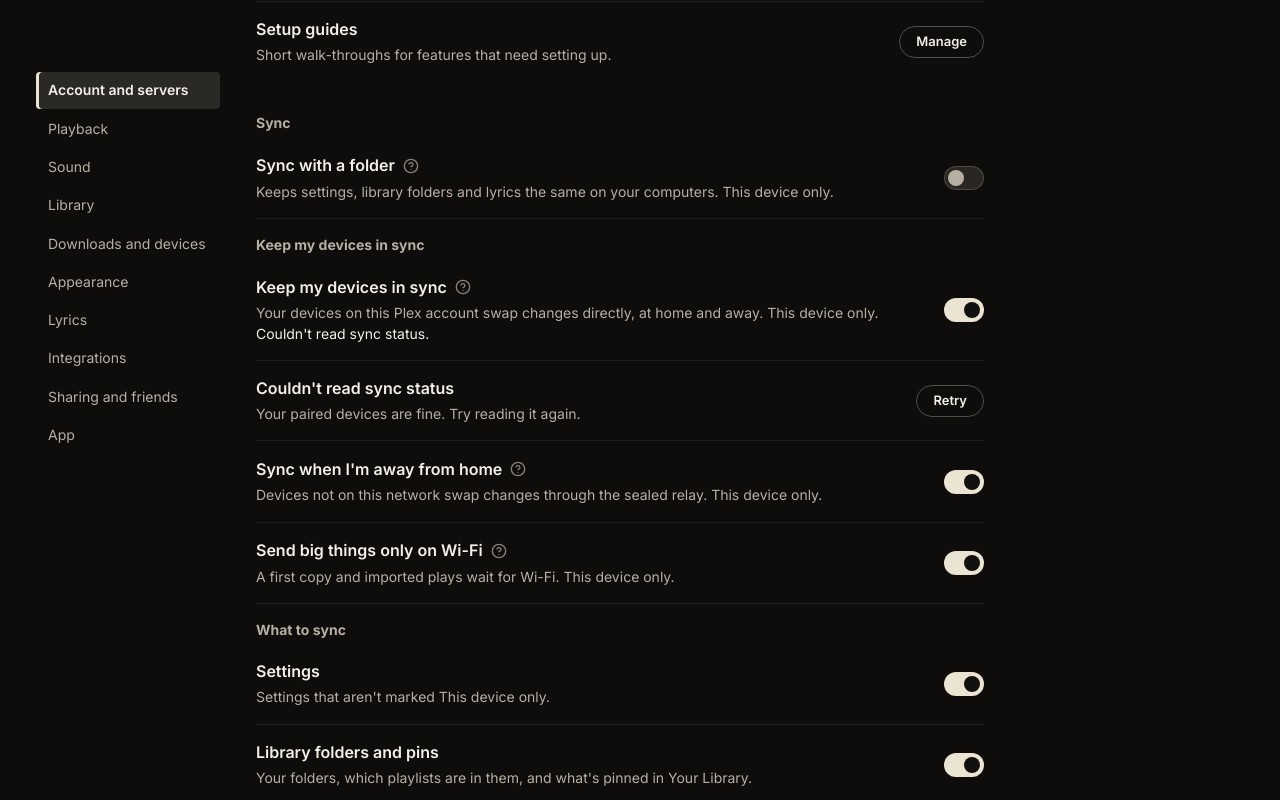
Keep my devices in sync › says when the sync status can't be read, and Retry reads it again
(page scrolled)
Expected: the text "Couldn't read sync status." is shown, [256,325,429,342]
What coordinates should you click on to do the following:
click the button "Retry"
I would click on:
 (950, 401)
Its box is [916,385,984,417].
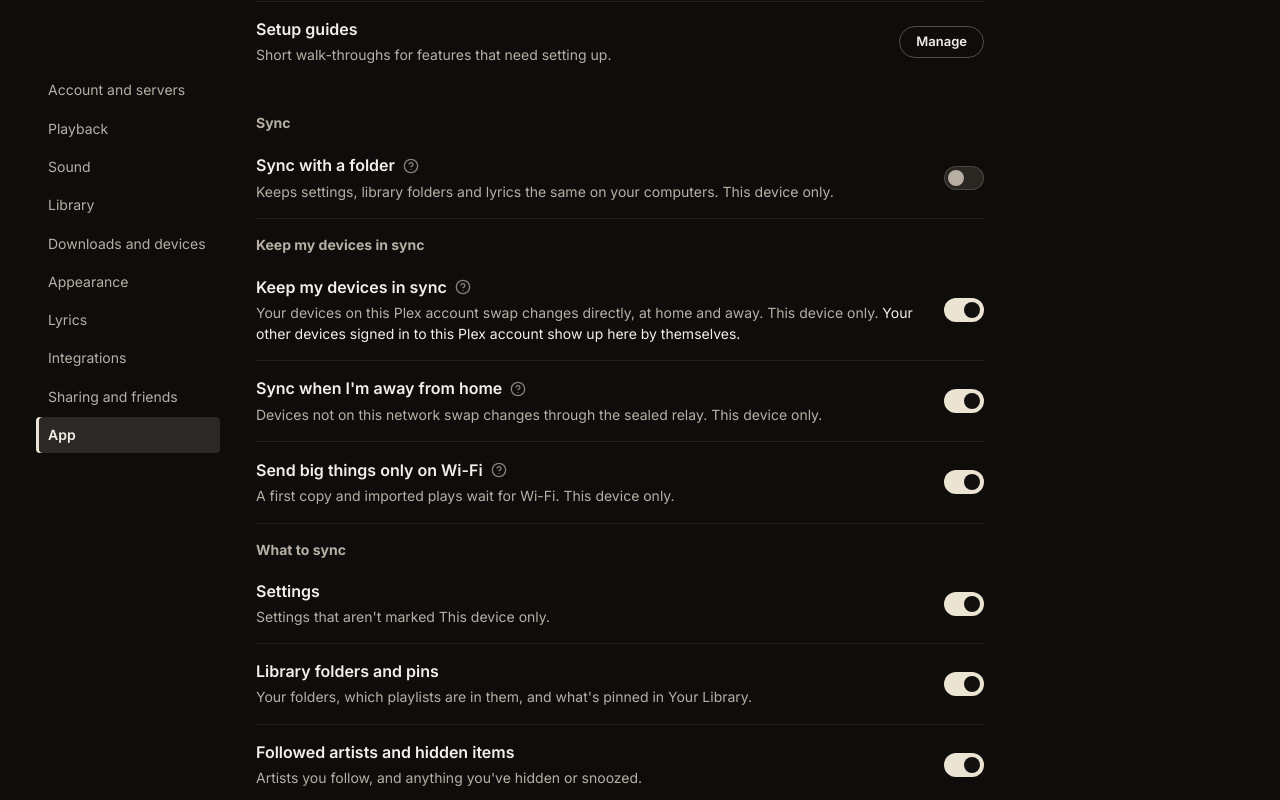
Expected: the text "Your other devices signed in to this Plex account show up here by themselves." is shown, [256,304,913,342]
Expected: the text "Couldn't read sync status" is gone
